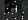person: (6, 1, 13, 14), (12, 6, 17, 15)
